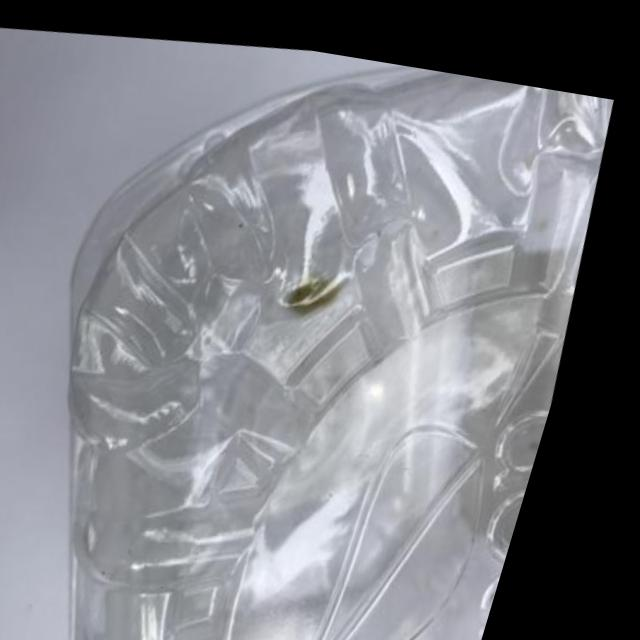plastic: (0, 12, 640, 640)
